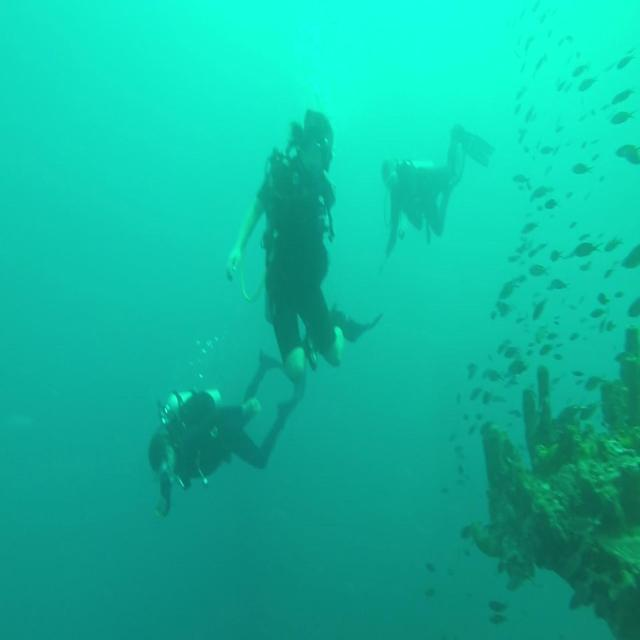human: (225, 107, 383, 412), (148, 380, 302, 518), (380, 121, 495, 260)
